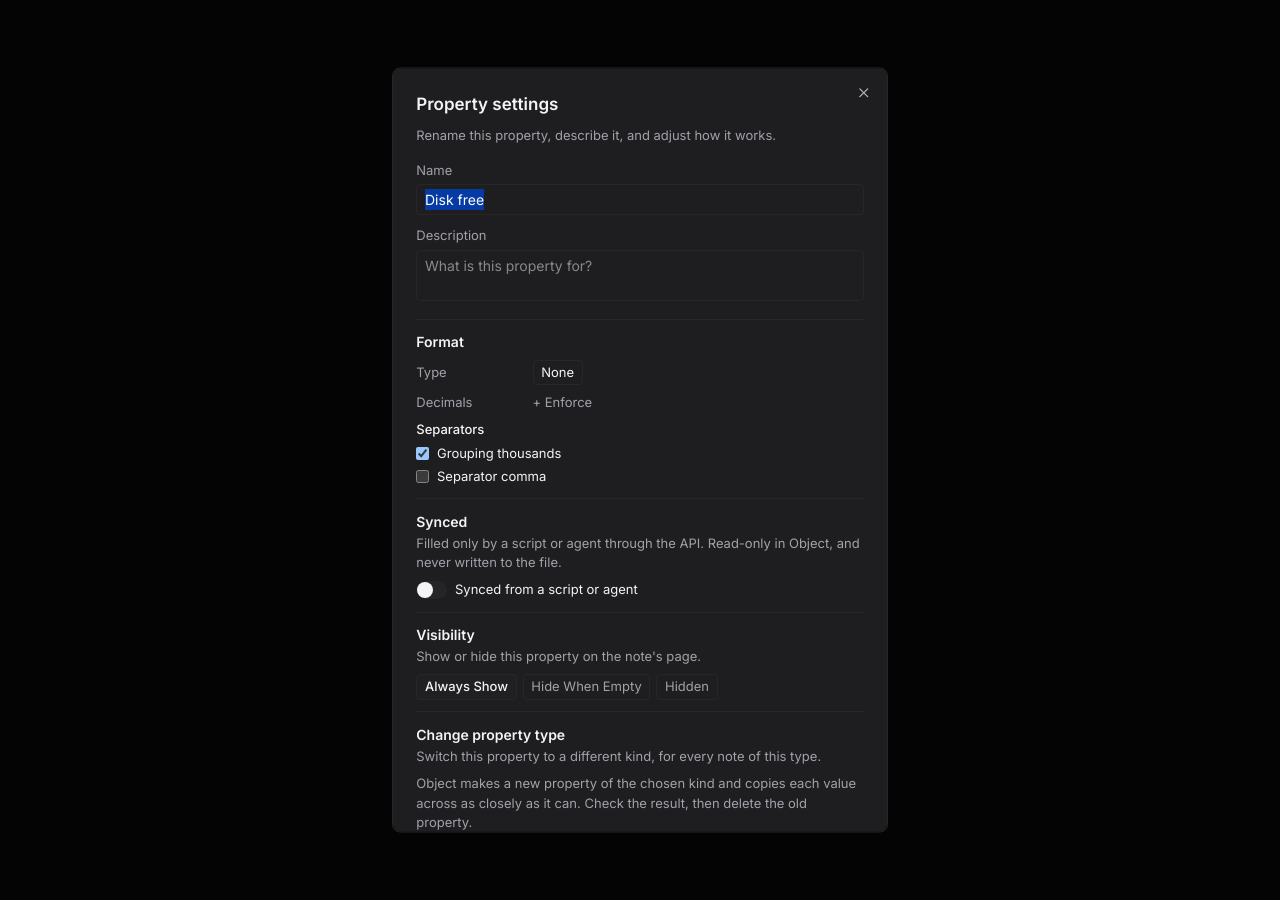
Scenario: SyncedSection › the toggle needs a source
Later steps or results of the test are not shown.
Expected: the field labelled "Source" is not shown
Click the switch named "Synced from a script or agent" at point(432, 590), box [416,581,447,599]
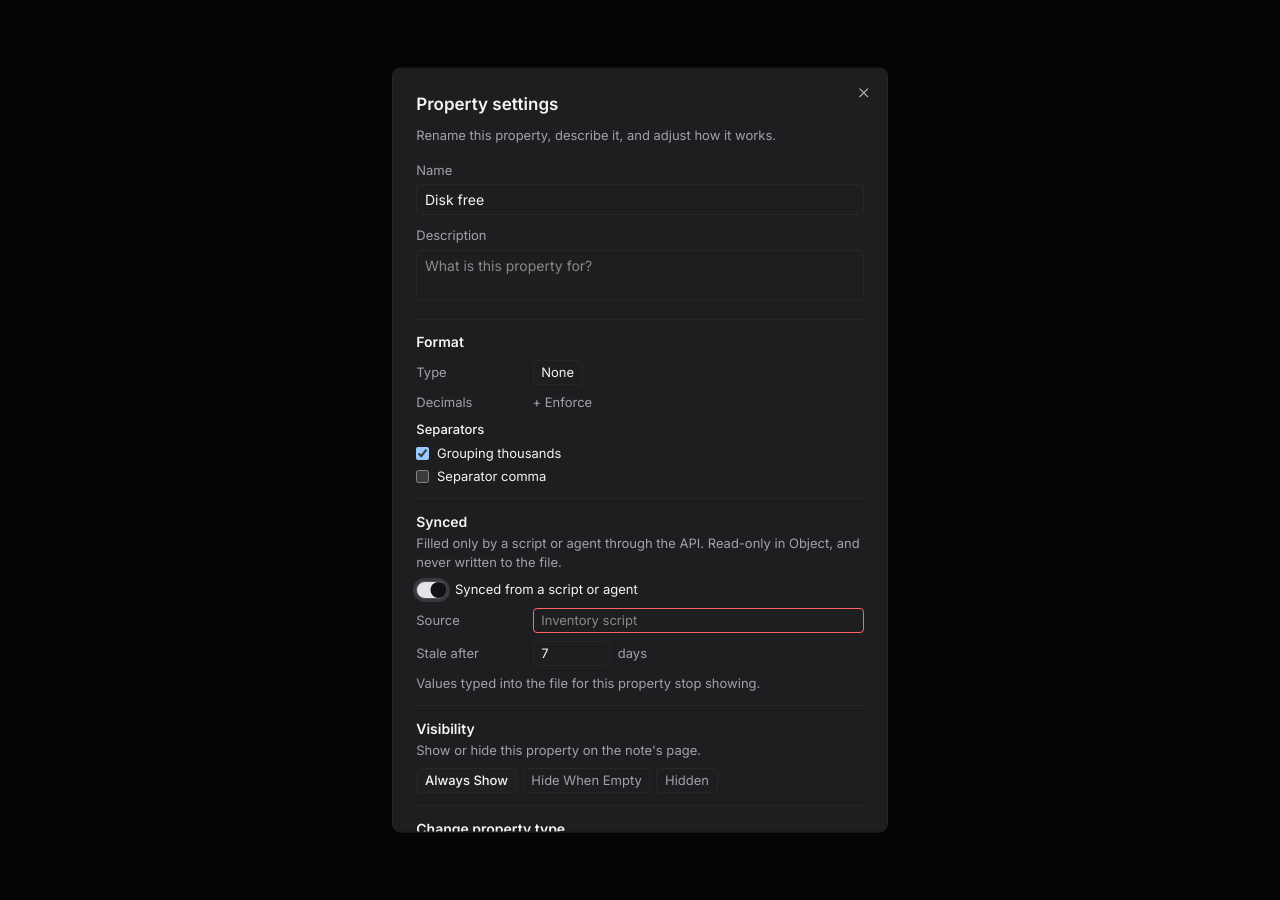
Result: the text "Values typed into the file for this property stop showing." is shown at [416,674,760,690]
